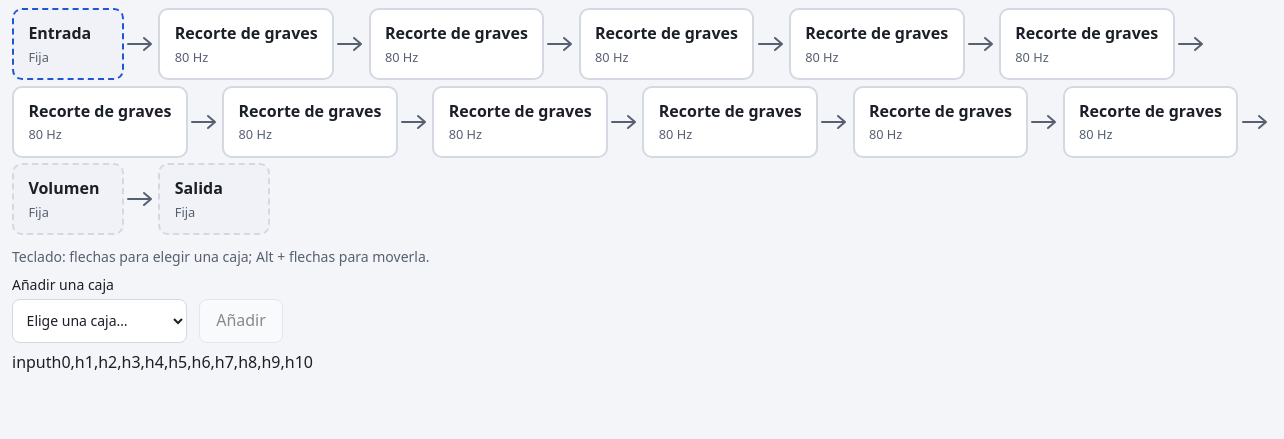
Test: ChainEditor › se pueden repetir cajas y hay un máximo
Select "Recorte de graves" in the dropdown labelled "Añadir una caja" at (100, 321), box 12,299 -> 187,343
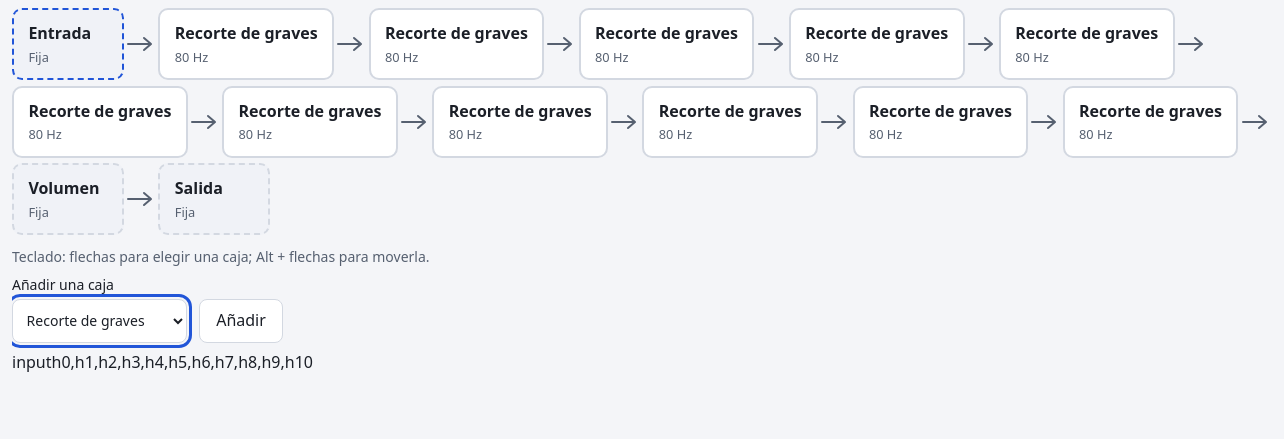
Click the button "Añadir".
click(241, 321)  # box 199,299 -> 283,343
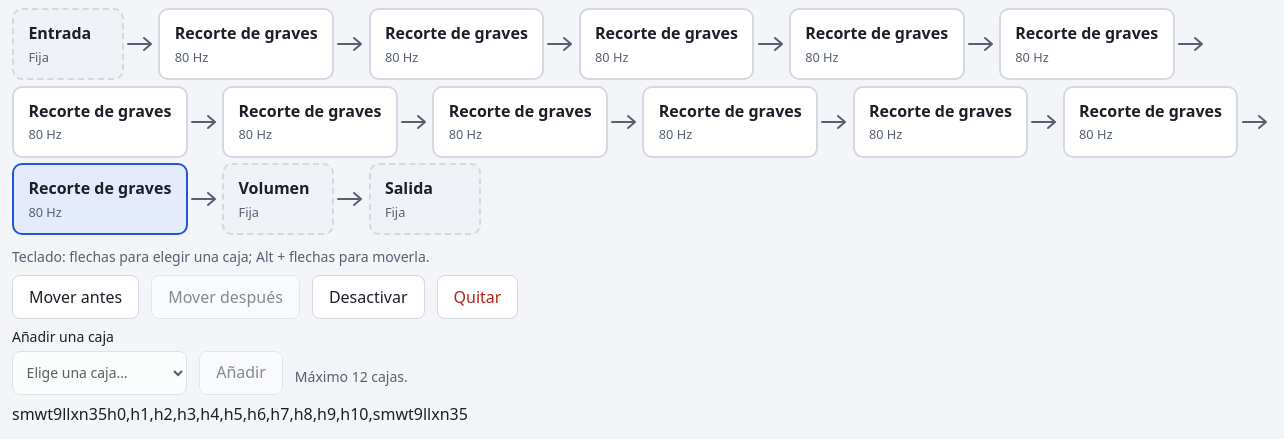
Now the dropdown labelled "Añadir una caja" is disabled, box 12,351 -> 187,395
Now the button "Añadir" is disabled, box 199,351 -> 283,395
